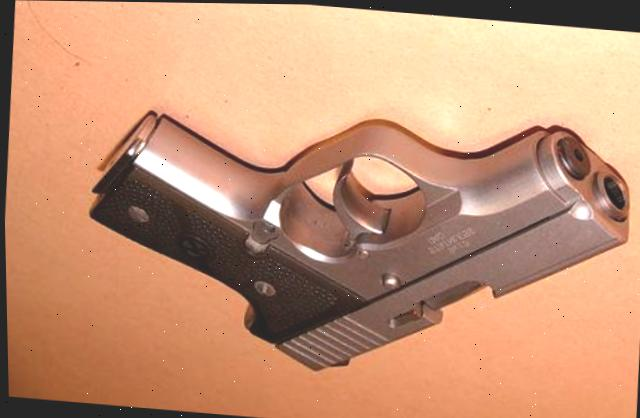pistol: (73, 89, 636, 393)
